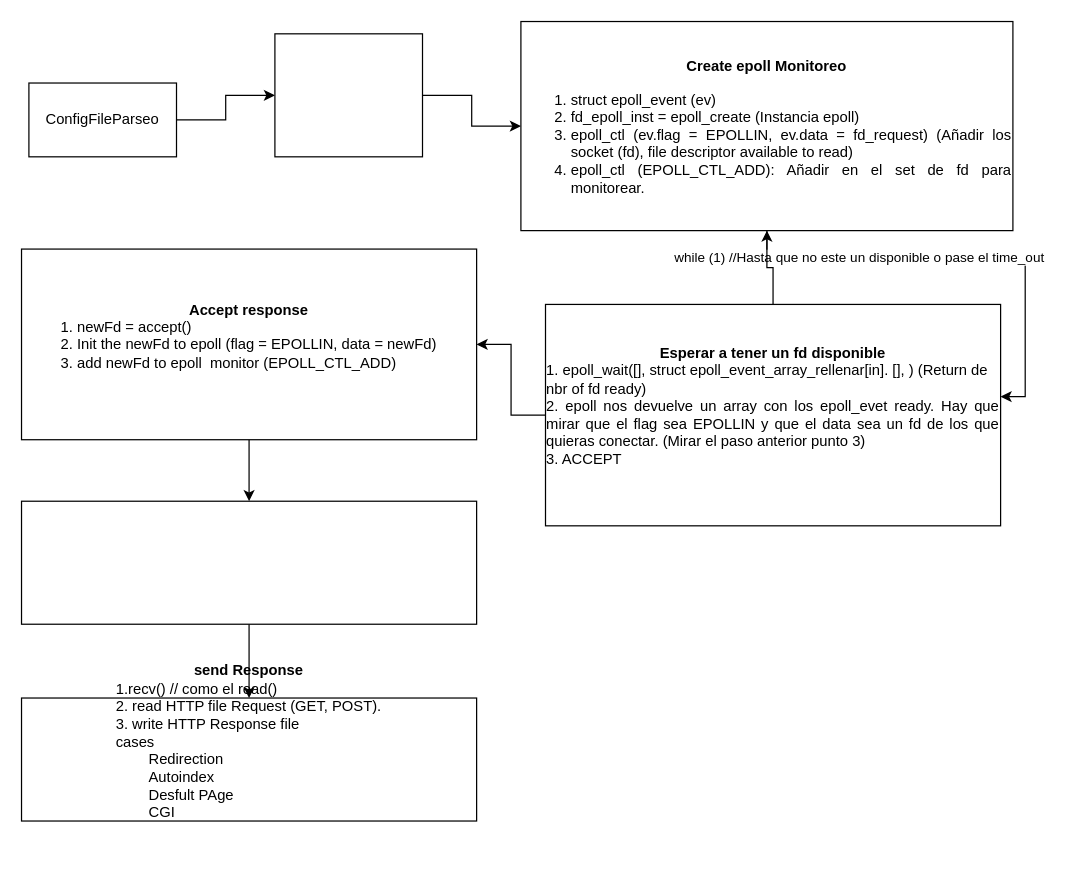
Image size: 1065x878. Some labels were removed from this diagram. The shapes that lost their labels are listed below. From the top down, each one's centre as x and y in pixels, then its label:
At [348,95]: "Create sockets server socket bind listem".
At [248,562]: "request Response 1.recv() // como el read() 2. Check Request (GET, POST)..".
